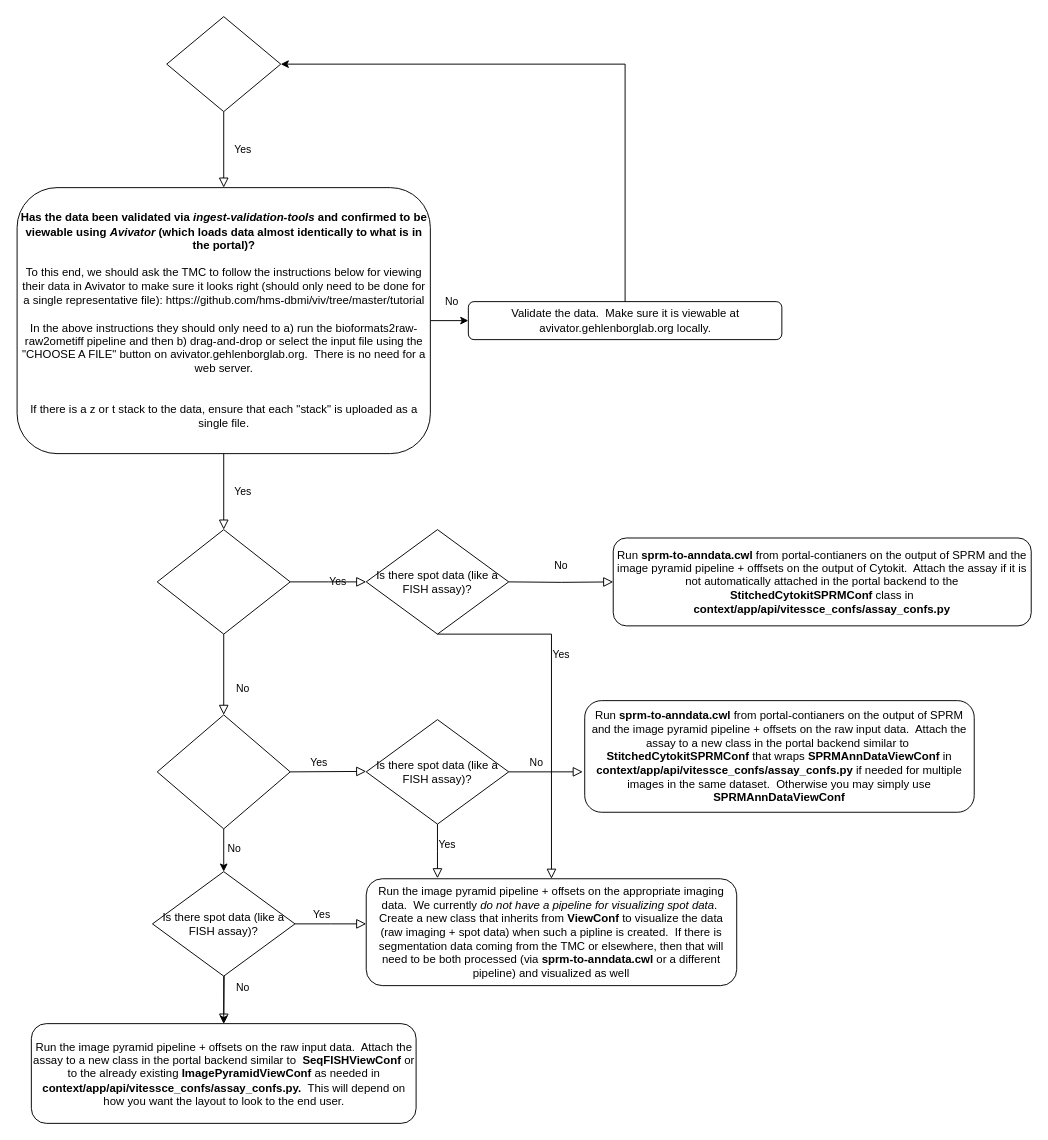
Image size: 1048x1140. Some labels were removed from this diagram. Each missing label, with the centre of its shape:
"Is this imaging data?" goes at point (223, 64).
"Will Cytokit+SPRM be run?" goes at point (223, 581).
"Will SPRM be run on non-Cytokit segmentations?" goes at point (223, 771).
